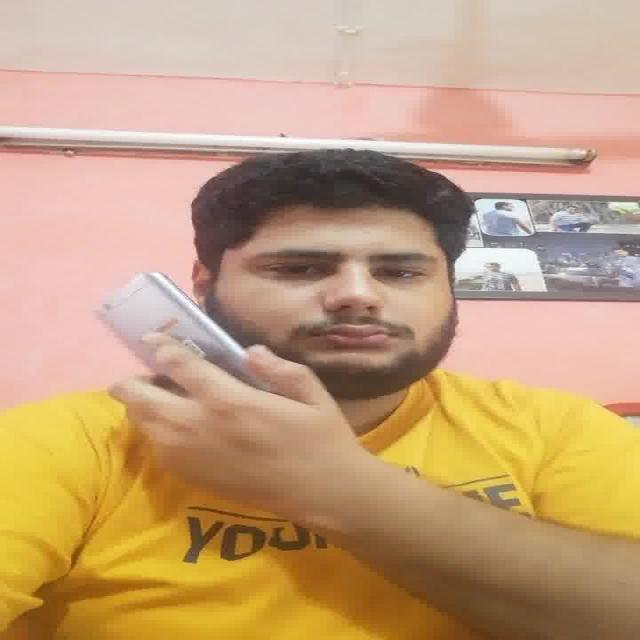Phone: (93, 266, 248, 366)
